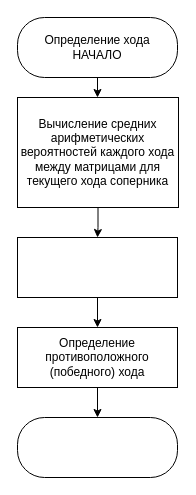
Some shapes in this 196 by 495 pixel diagram are drawn without their labels. Each missing label, with the centre of its shape:
"Определение хода КОНЕЦ" goes at (97,447).
"Определение хода с максимальным значением средней вероятности" goes at (97,267).
